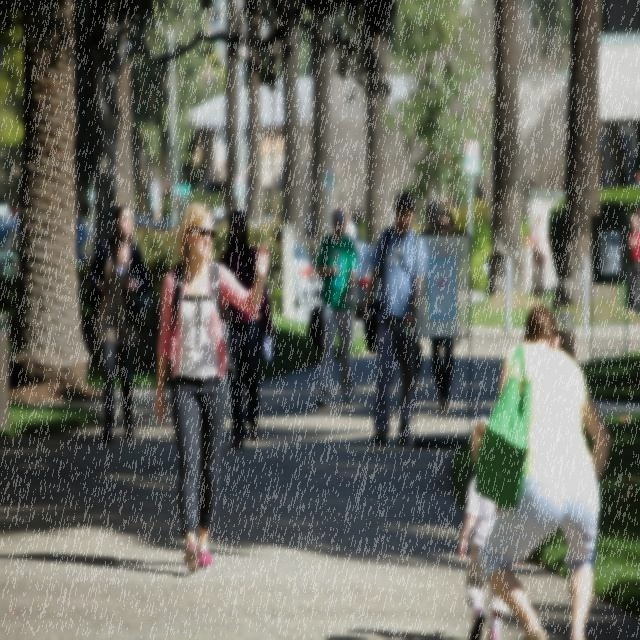pessoa: (473, 298, 616, 640), (150, 197, 272, 576), (362, 192, 429, 446), (86, 203, 150, 449), (218, 208, 274, 451), (456, 410, 514, 640), (315, 207, 360, 408), (429, 210, 461, 413), (0, 548, 189, 582), (520, 213, 550, 299), (326, 626, 466, 639), (628, 212, 640, 314), (343, 207, 358, 242)
